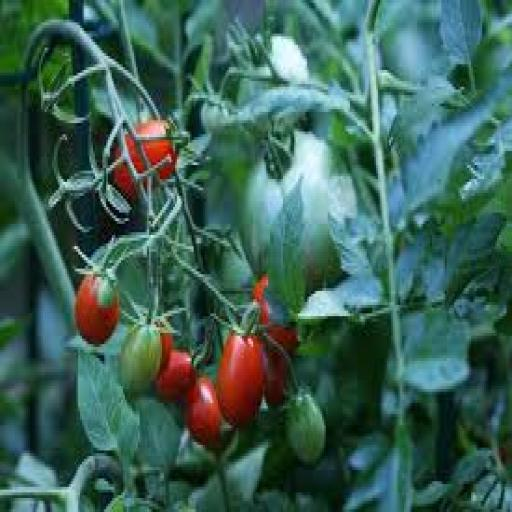tomato: (241, 132, 357, 290), (216, 333, 264, 428), (254, 275, 297, 352), (75, 275, 119, 344), (120, 325, 161, 394), (287, 392, 325, 464), (135, 121, 178, 179), (187, 375, 221, 447), (157, 350, 195, 402), (265, 347, 288, 405), (161, 328, 173, 372)
